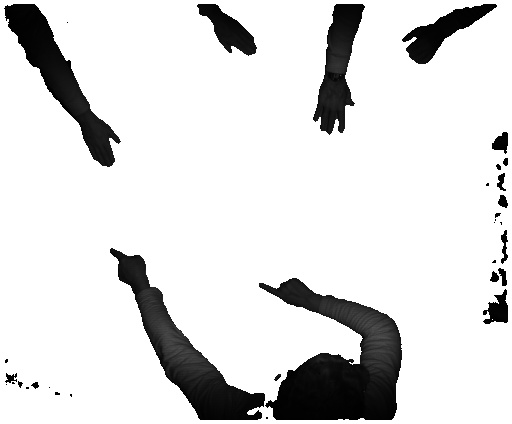hand: (312, 83, 359, 135), (84, 118, 127, 167), (213, 14, 263, 55), (257, 272, 313, 306), (104, 248, 151, 288), (400, 26, 446, 63)
